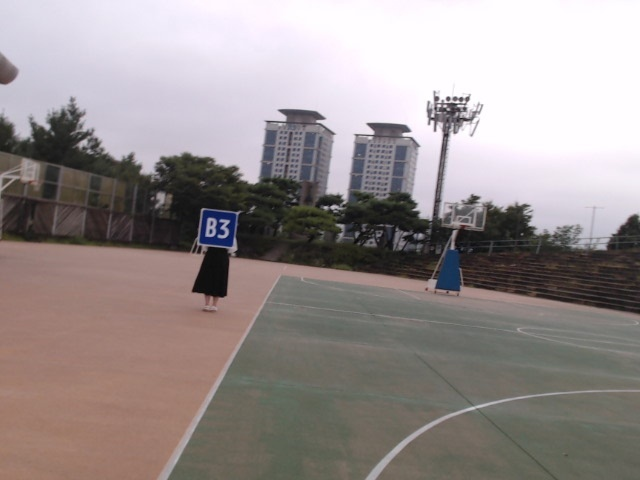delivery_b3: (198, 209, 238, 248)
